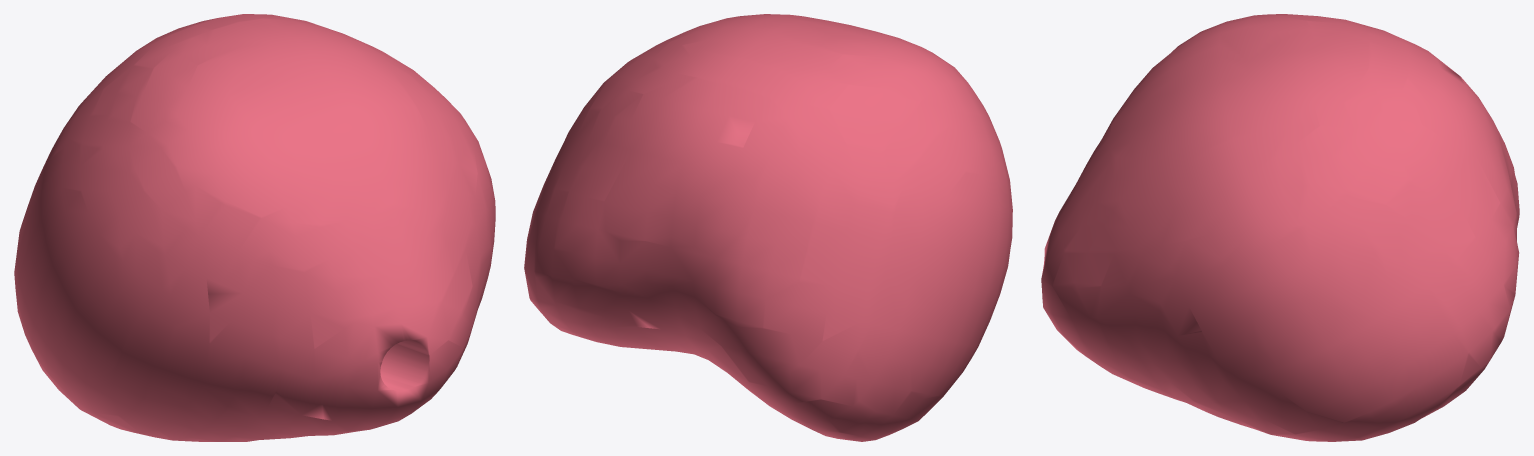
3 renders of one model, left to right at view 1: azimuth 30°, elevation 25°; view 2: azimuth 150°, elevation 25°; view 3: azimuth 270°, elevation 25°, orthographic. The views are drawn at different scales.
Parts seen in each view (by area): view 1: TPH-prostate; view 2: TPH-prostate; view 3: TPH-prostate.
Boxes of the visible parts, left/top/right/bottom form: TPH-prostate: left=14, top=14, right=495, bottom=441; TPH-prostate: left=524, top=14, right=1012, bottom=441; TPH-prostate: left=1041, top=14, right=1519, bottom=441.
Size of the model in its own units: 54.94 by 44.93 by 54.32.
